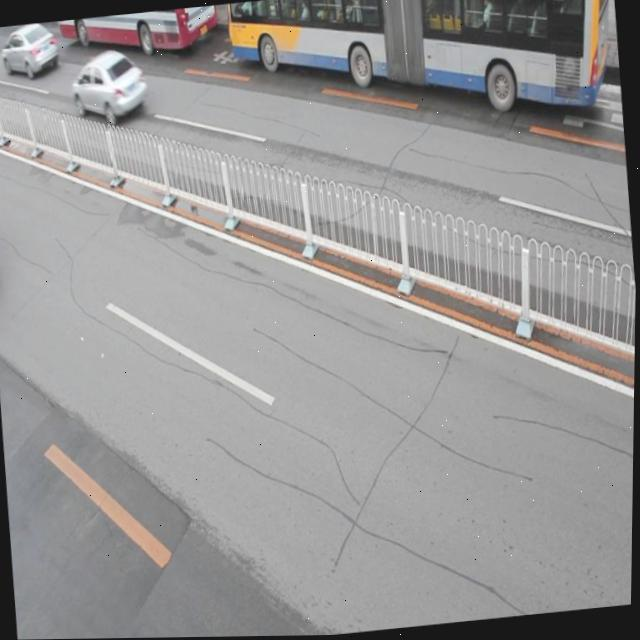car: (70, 45, 150, 128), (2, 21, 62, 80)
van: (223, 0, 618, 145), (56, 6, 219, 63)
